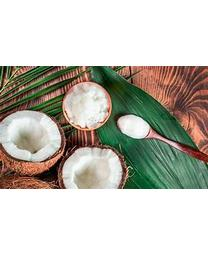coconut: (0, 108, 66, 177), (59, 141, 129, 190)
